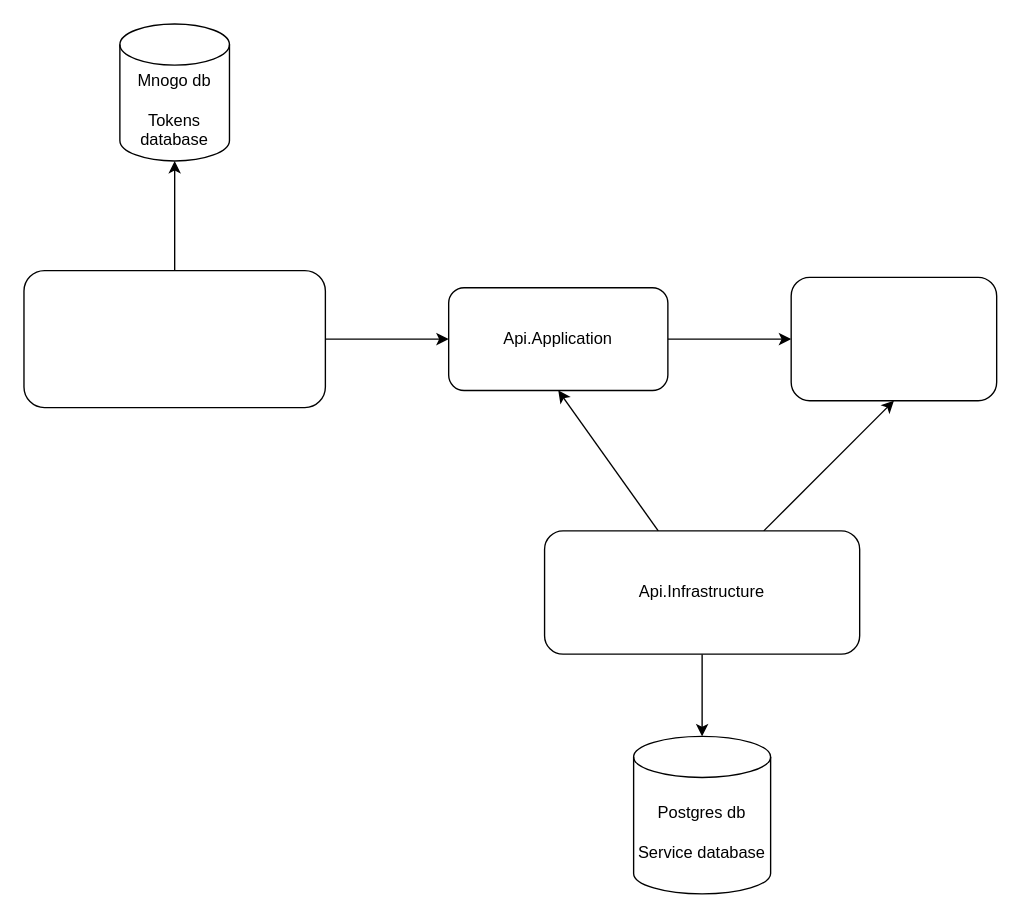
Some shapes in this 1021 by 918 pixel diagram are drawn without their labels. The shapes that lost their labels are listed below. From the top down, each one's centre as x and y in pixels, then its label:
At [174,338]: "Api".
At [893,338]: "Api.Domain".
